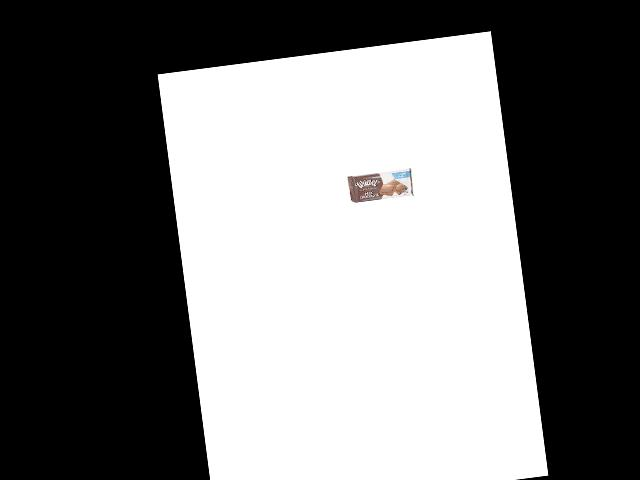chocolate: (347, 166, 415, 204)
